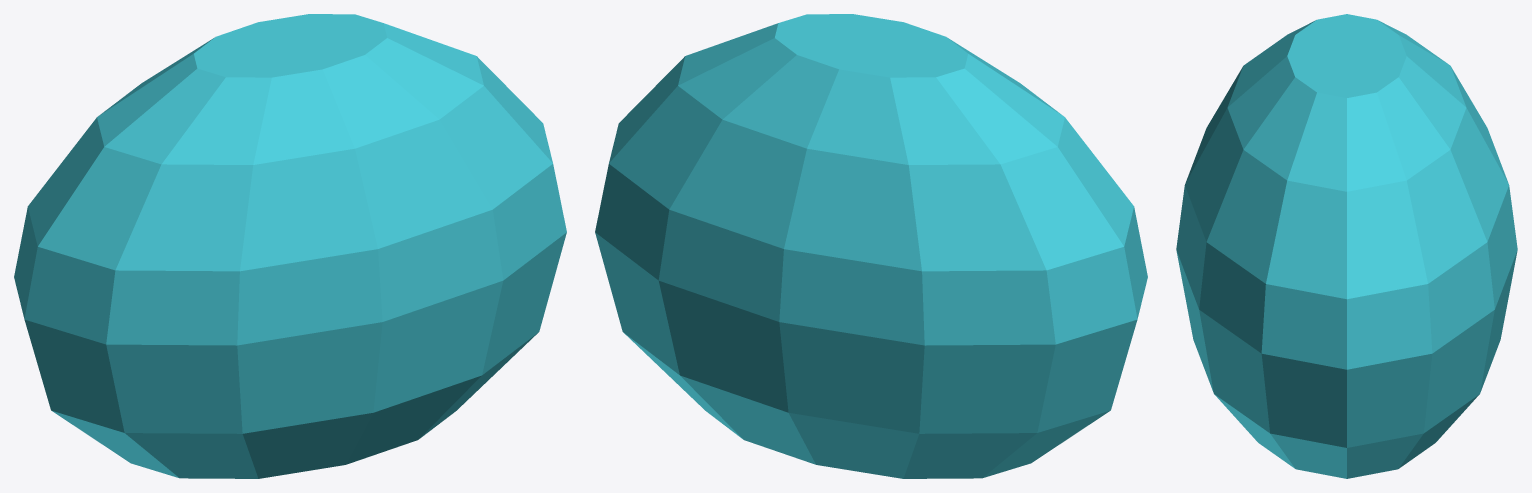
File: SM_Aquamarine_Normal.fbx
3 views of the same model, side by side, from view 1: azimuth 30°, elevation 25°; view 2: azimuth 150°, elevation 25°; view 3: azimuth 270°, elevation 25° (orthographic). The views are drawn at different scales.
Parts seen in each view (by area): view 1: SM_Aquamarine_Normal; view 2: SM_Aquamarine_Normal; view 3: SM_Aquamarine_Normal.
Part boxes in pixels (<box>): SM_Aquamarine_Normal: <box>14,14,566,478</box>; SM_Aquamarine_Normal: <box>595,14,1147,478</box>; SM_Aquamarine_Normal: <box>1176,14,1517,478</box>.
Size of the model in its own units: 20 by 12 by 15.
